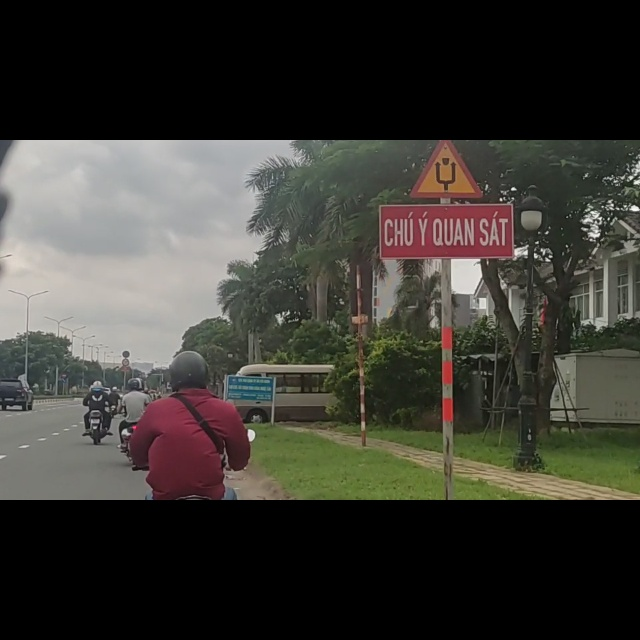bien_nguy_hiem: (410, 2, 487, 104), (123, 373, 130, 388), (61, 412, 68, 423), (60, 423, 67, 433)
